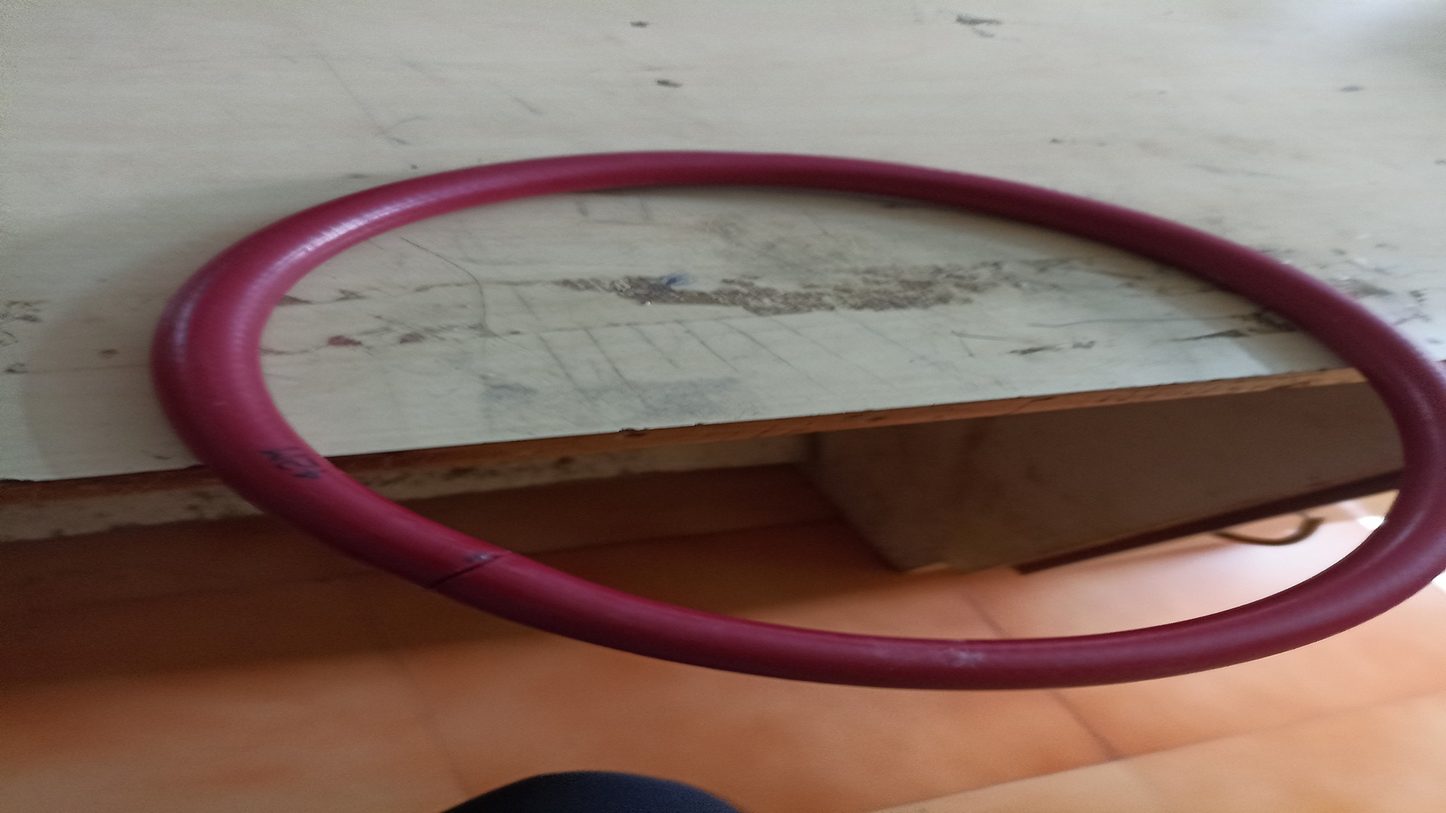Red ring: (159, 148, 1446, 689)
